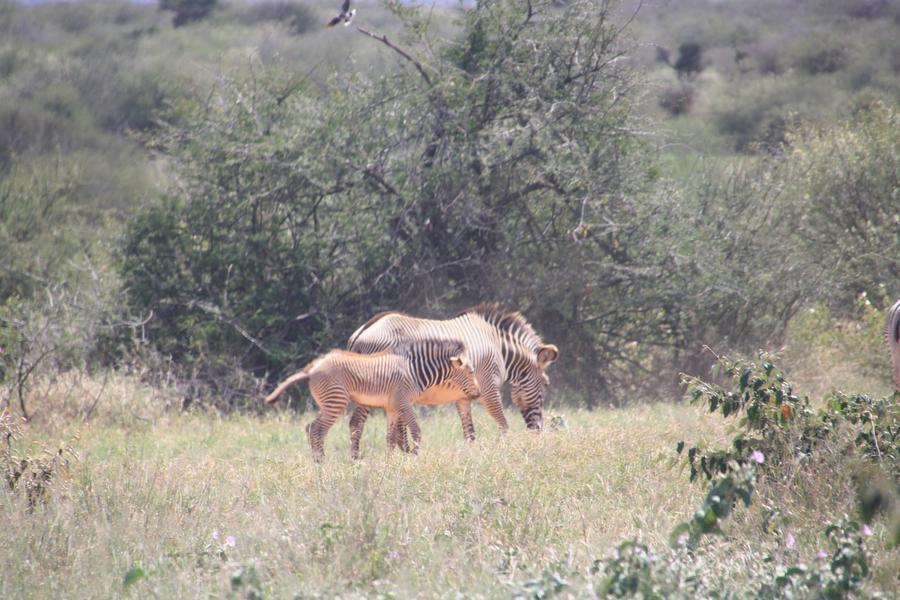zebra_grevys: (303, 341, 417, 406)
